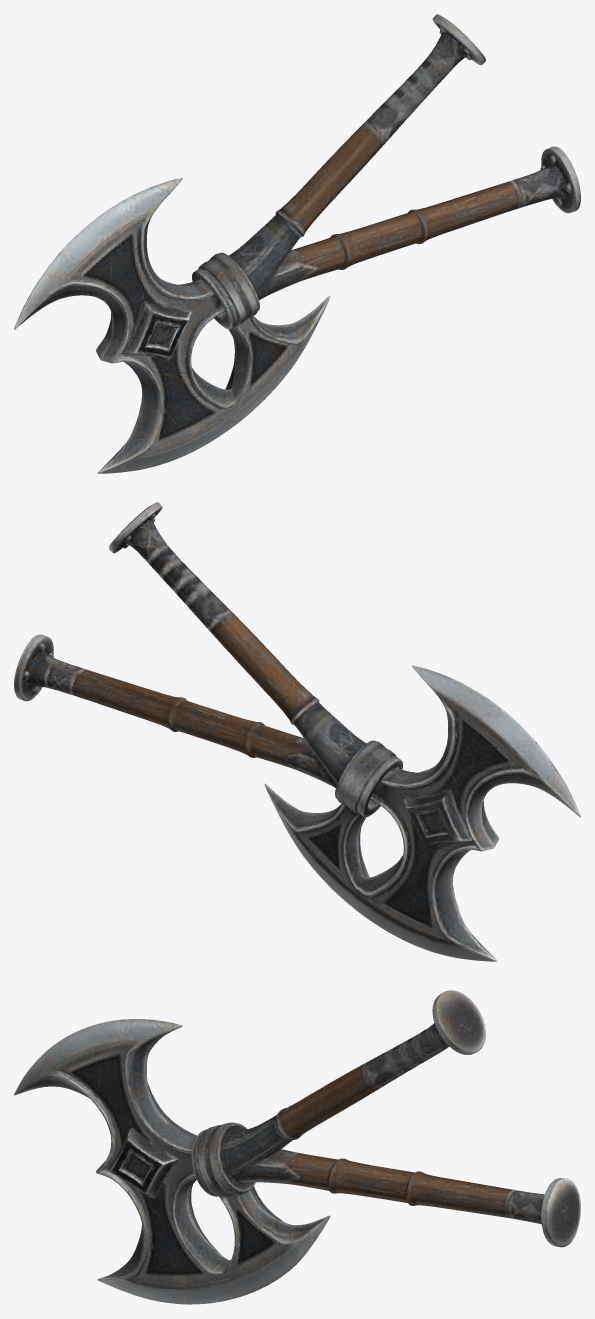
The model's file is axe.glb.
The picture shows the model from 3 angles, top to bottom: view 1: azimuth 30°, elevation 25°; view 2: azimuth 150°, elevation 25°; view 3: azimuth 330°, elevation 25°; orthographic projection.
Size of the model in its own units: 1.9 by 1.24 by 0.215.
Materials: 1 (1 with a texture image).
